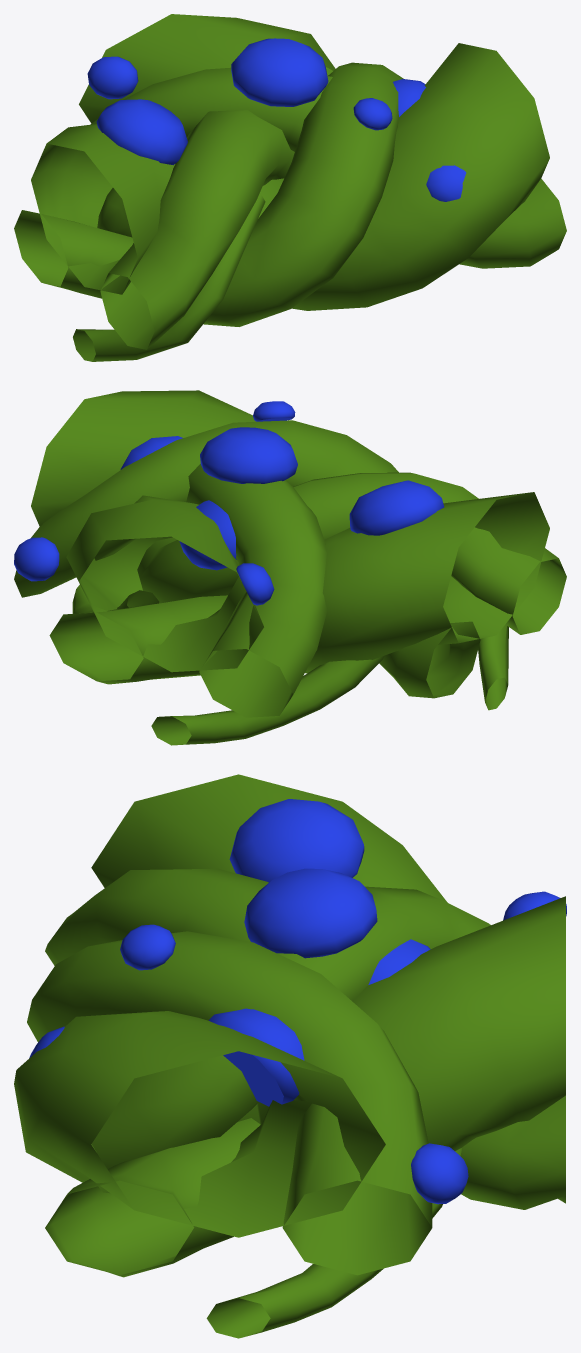
The picture shows the model from 3 angles, top to bottom: view 1: azimuth 30°, elevation 25°; view 2: azimuth 150°, elevation 25°; view 3: azimuth 270°, elevation 25°; orthographic projection. The views are drawn at different scales.
Parts seen in each view (by area): view 1: root_water_three; view 2: root_water_three; view 3: root_water_three.
Part boxes in pixels (<box>): root_water_three: <box>14,14,566,361</box>; root_water_three: <box>14,390,566,745</box>; root_water_three: <box>14,774,566,1338</box>.
Size of the model in its own units: 100 by 55.83 by 84.43.
